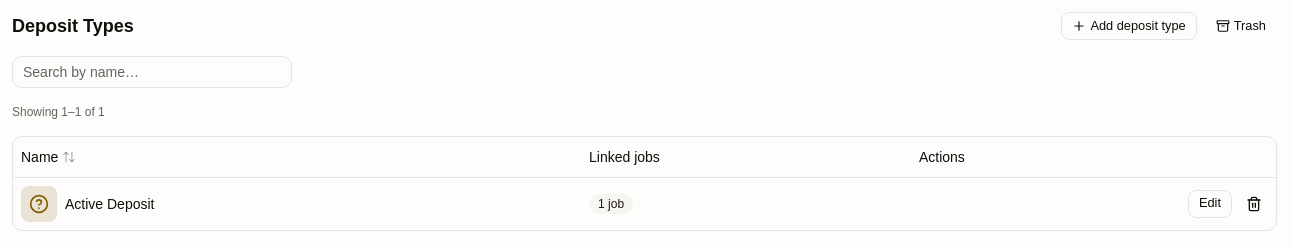
Test: DepositsConfigPanel › shows trashed deposit types when trash view is toggled
Expected: the text "Active Deposit" is shown, [65,194,154,214]
Expected: the text "Trashed Deposit" is not shown
Click the button with aria-label "Show trash" at (1241, 26), box [1205,12,1277,40]
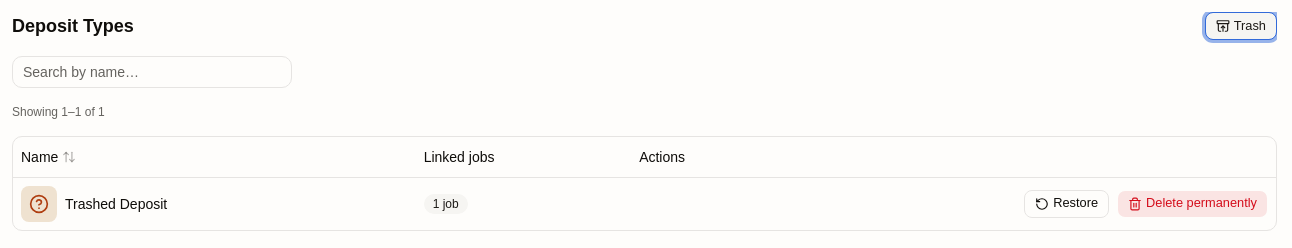
Expected: the text "Trashed Deposit" is shown, [65,194,167,214]
Expected: the button with aria-label "Hide trash" is shown, [1205,12,1277,40]
